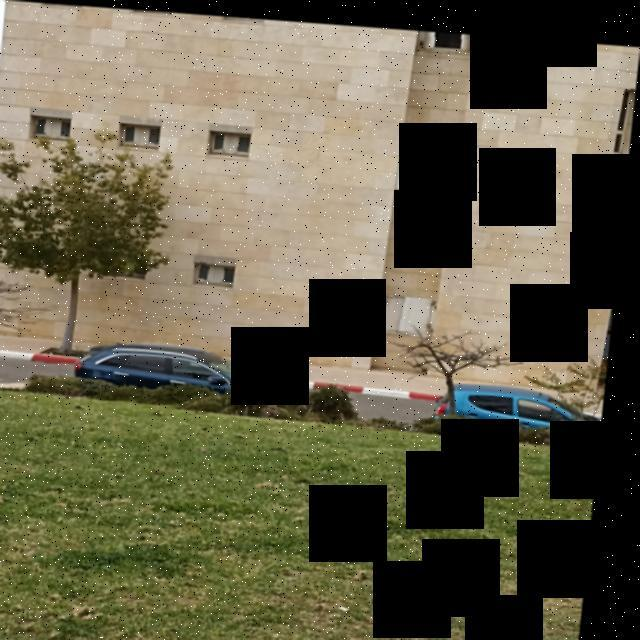Window: (390, 289, 442, 331), (410, 149, 452, 183), (620, 78, 636, 146), (598, 214, 614, 275), (426, 24, 470, 42), (132, 252, 154, 272), (203, 258, 216, 278), (239, 131, 254, 148), (216, 130, 228, 149), (61, 119, 74, 136), (39, 118, 52, 134), (125, 124, 138, 140), (151, 126, 162, 144), (228, 262, 240, 278)
